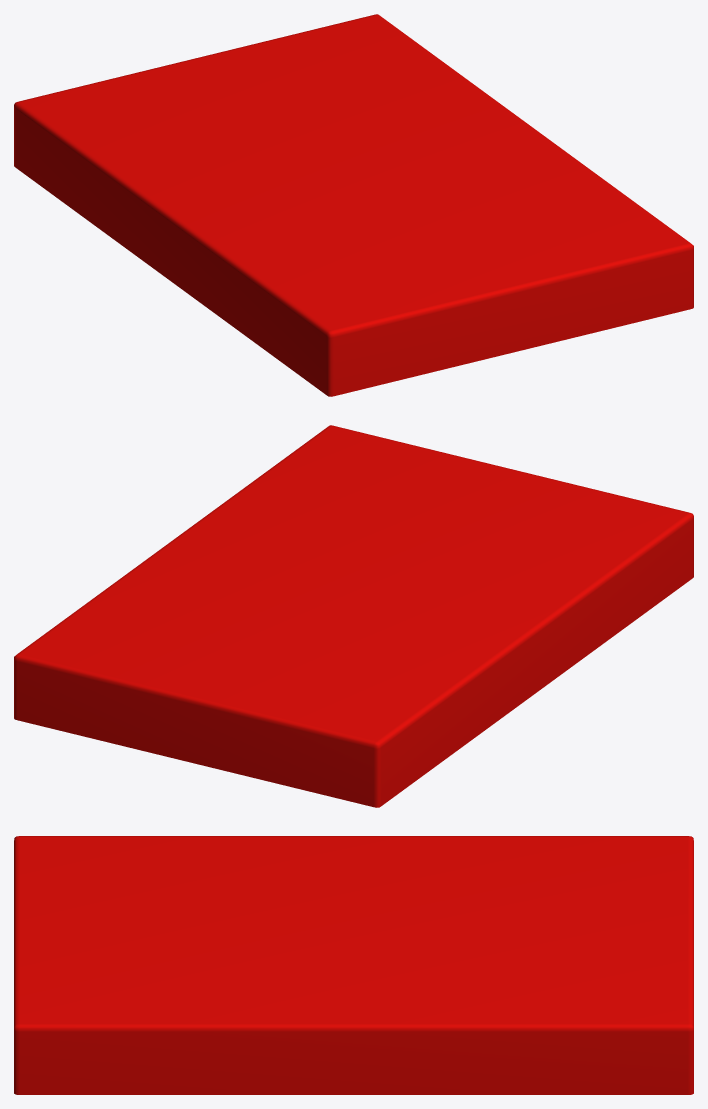
Rendered from Mattress.glb.
3 renders of one model, top to bottom at view 1: azimuth 30°, elevation 25°; view 2: azimuth 150°, elevation 25°; view 3: azimuth 270°, elevation 25°, orthographic. The views are drawn at different scales.
Parts seen in each view (by area): view 1: Mattress; view 2: Mattress; view 3: Mattress.
Part boxes in pixels (x1,y1,x2,y2): Mattress: (14, 14, 693, 396); Mattress: (14, 425, 693, 807); Mattress: (14, 836, 693, 1094).
Bounding box in the file's own units: 1.5 × 0.25 × 2.25.
